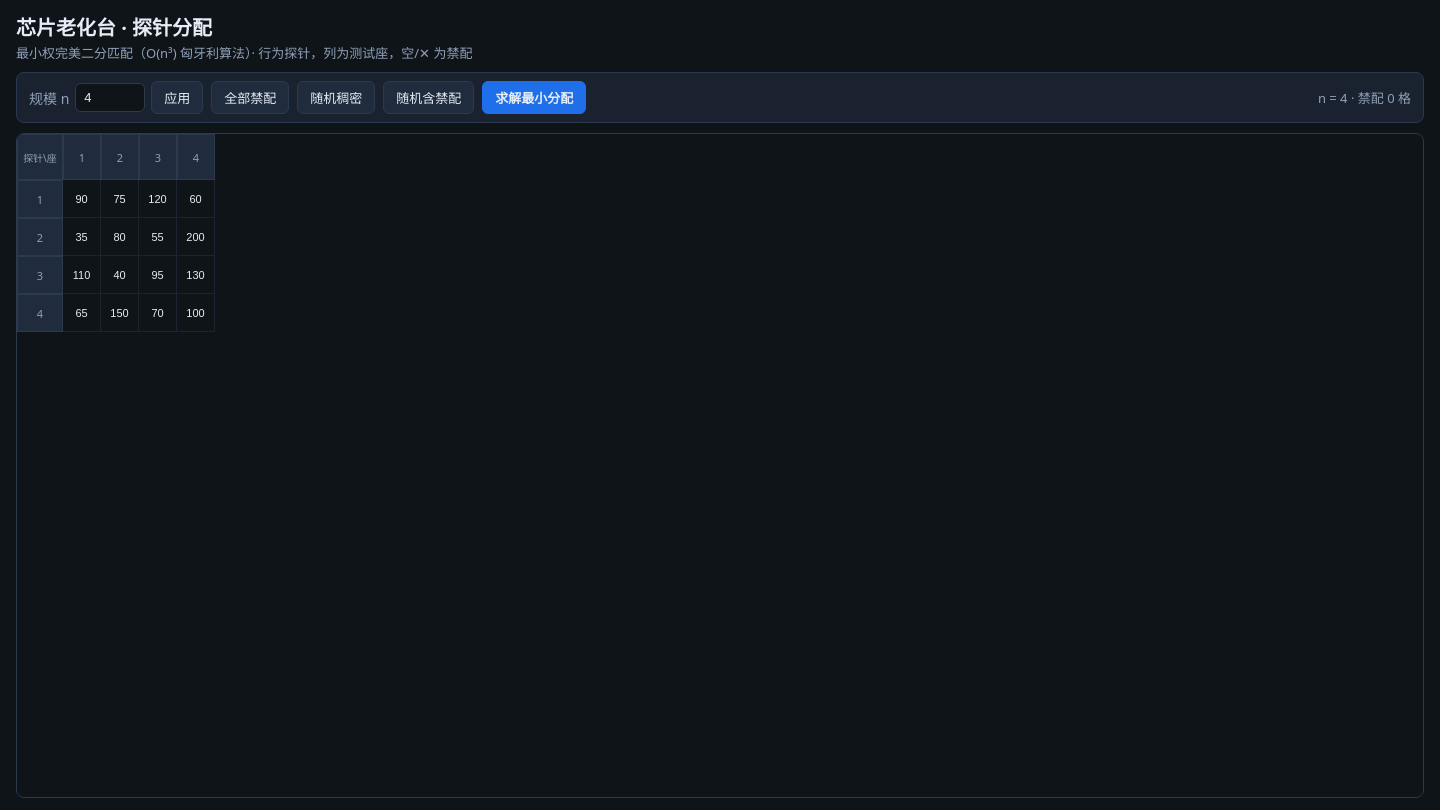
Test case: App 页面：请求锁定 / 编辑清方案 / 排除重算 › 排除配对：该格被设为禁配并经同一接口重算，展示替代最优方案
This screenshot has width=1440, height=810.
Step 1. Click the button "求解最小分配" → (534, 98), box [482,81,586,114]
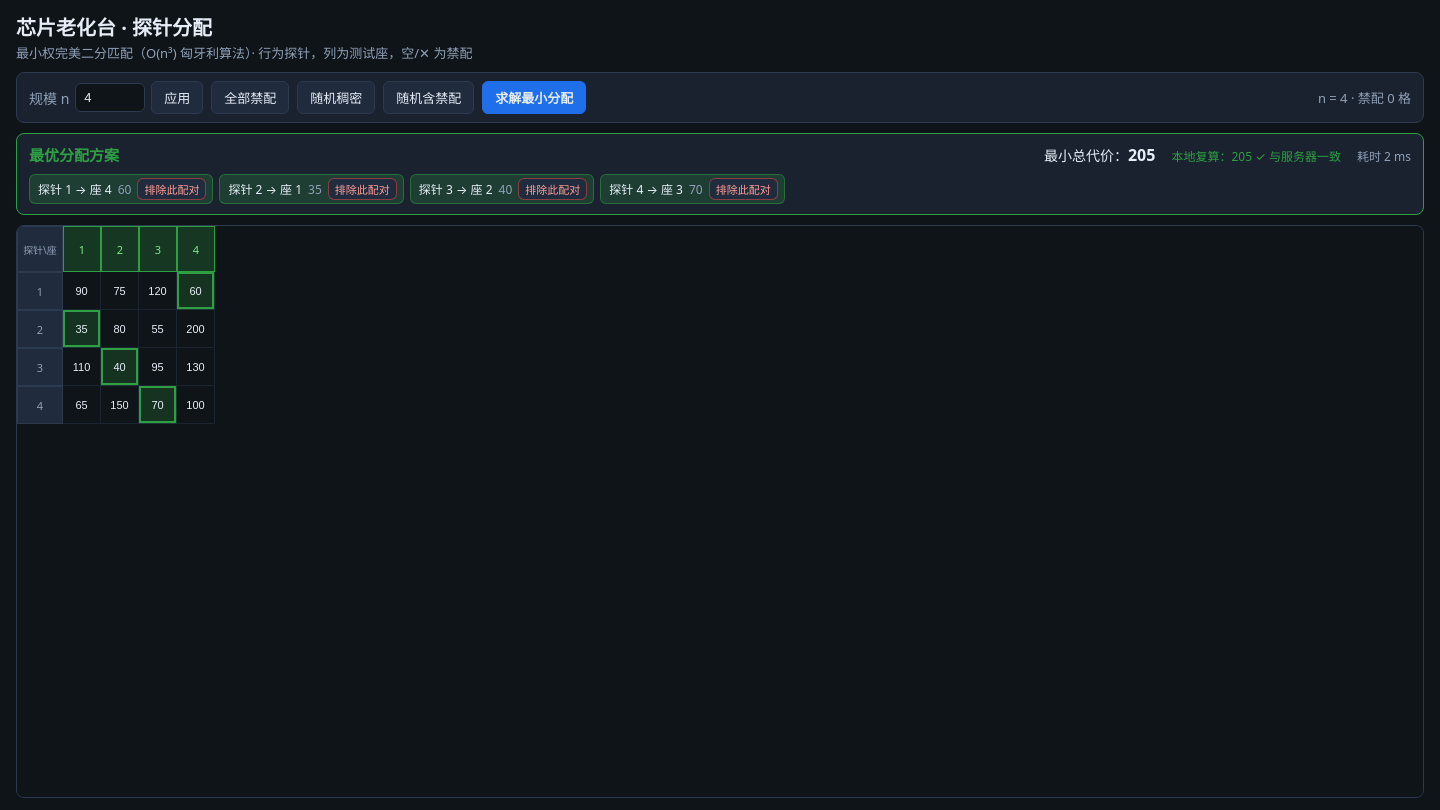
Check: the heading "最优分配方案" is shown, box [29,144,119,165]
# 排除第一对（探针 1 → 座 4，即 [0][3]）
Step 2. Click the 1st button "排除此配对" → (172, 189), box [137,178,206,200]
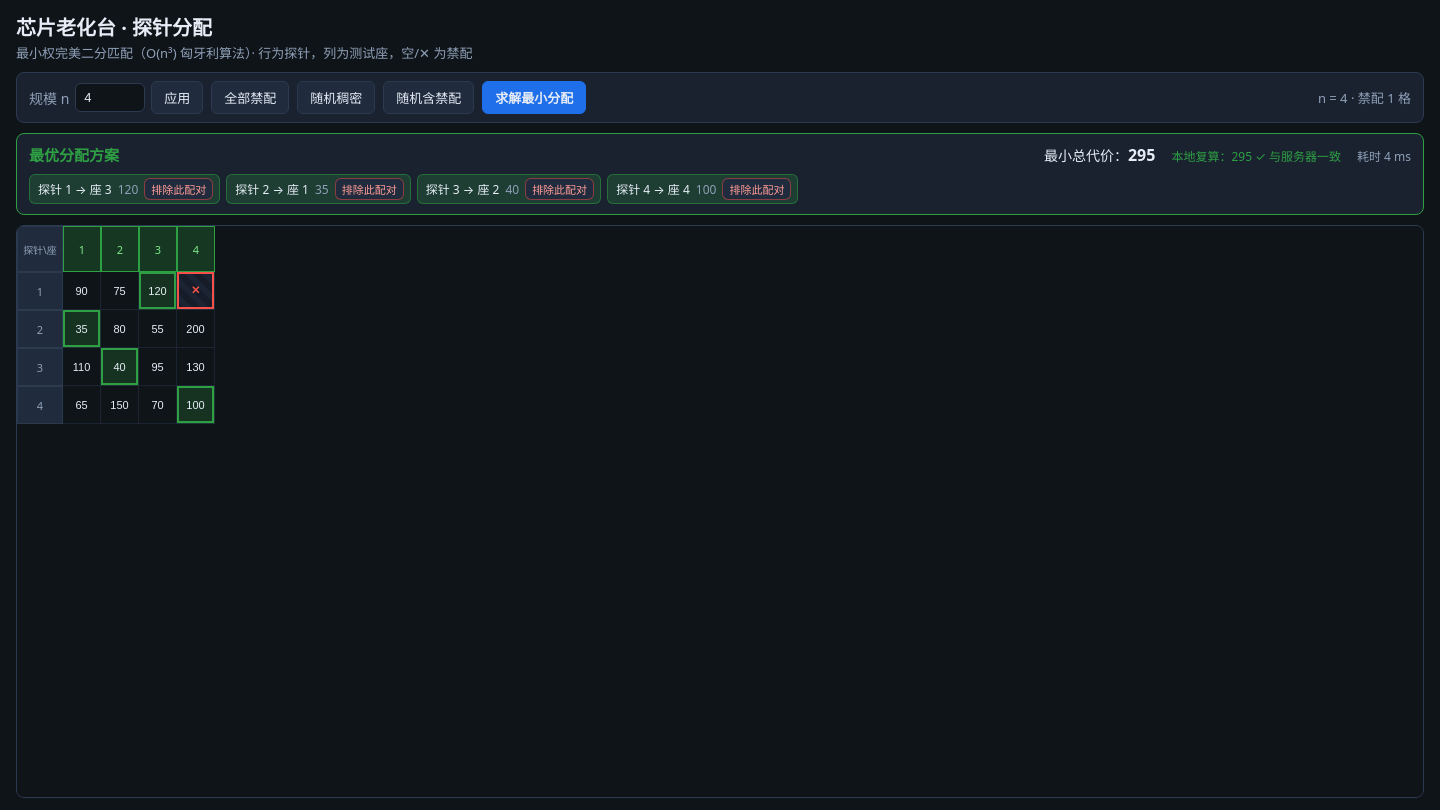
Check: the text "295" is shown, box [1128,144,1156,166]
